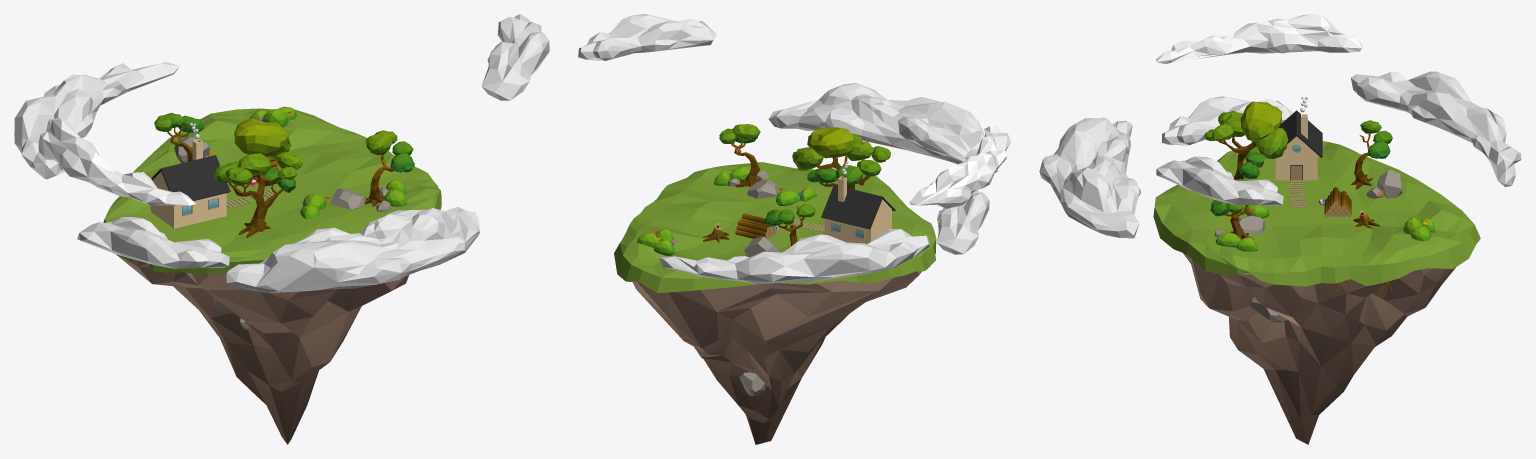
Rendered from Floating_Island_Scene2.fbx.
3 views of the same model, side by side, from view 1: azimuth 30°, elevation 25°; view 2: azimuth 150°, elevation 25°; view 3: azimuth 270°, elevation 25° (orthographic). The views are drawn at different scales.
Parts seen in each view (by area): view 1: Floating_Island_Scene2; view 2: Floating_Island_Scene2; view 3: Floating_Island_Scene2.
Boxes of the visible parts, x1,y1,x2,y2 form: Floating_Island_Scene2: [14, 14, 549, 444]; Floating_Island_Scene2: [578, 14, 1010, 444]; Floating_Island_Scene2: [1039, 14, 1521, 444].
Size of the model in its own units: 14.5 by 14.64 by 11.88.
